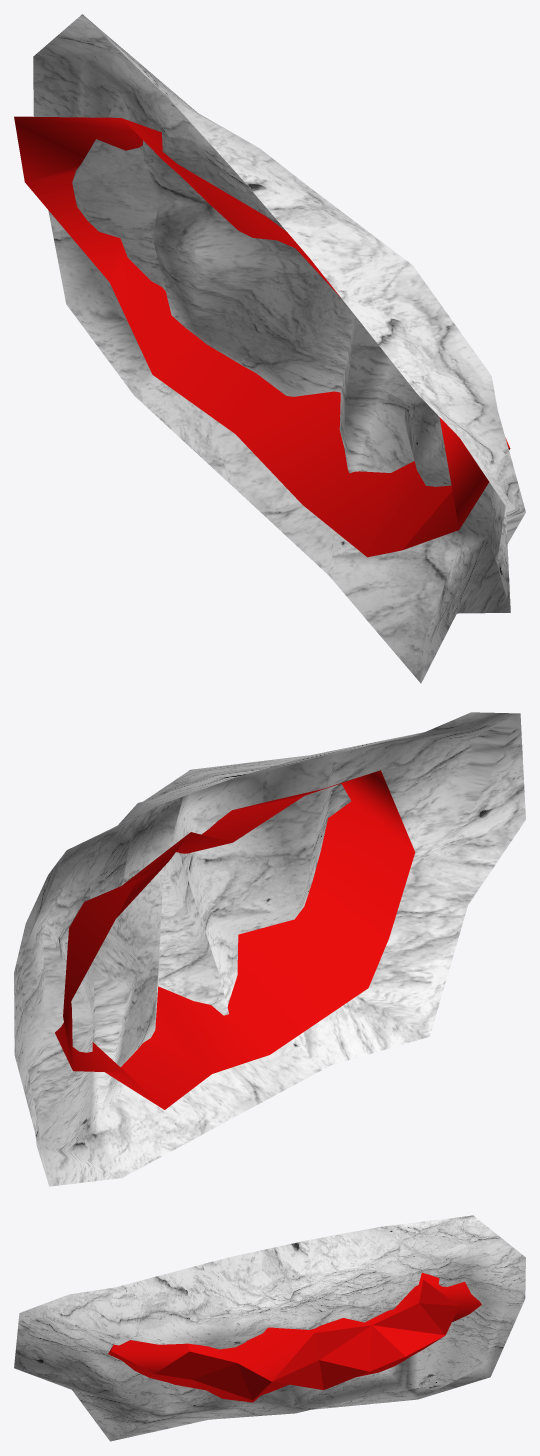
The model's file is Alt_Light_5_TOGETHER_straight_single.fbx.
3 renders of one model, top to bottom at view 1: azimuth 30°, elevation 25°; view 2: azimuth 150°, elevation 25°; view 3: azimuth 270°, elevation 25°, orthographic. The views are drawn at different scales.
Parts seen in each view (by area): view 1: v_r, v_e; view 2: v_r, v_e; view 3: v_r, v_e.
Boxes of the visible parts, x1=… form: v_r: x1=33, y1=14, x2=525, y2=683; v_e: x1=14, y1=116, x2=510, y2=557; v_r: x1=14, y1=712, x2=525, y2=1186; v_e: x1=55, y1=770, x2=415, y2=1109; v_r: x1=14, y1=1215, x2=525, y2=1441; v_e: x1=108, y1=1272, x2=481, y2=1402.
Bounding box in the file's own units: 13.99 × 32.19 × 66.05.
